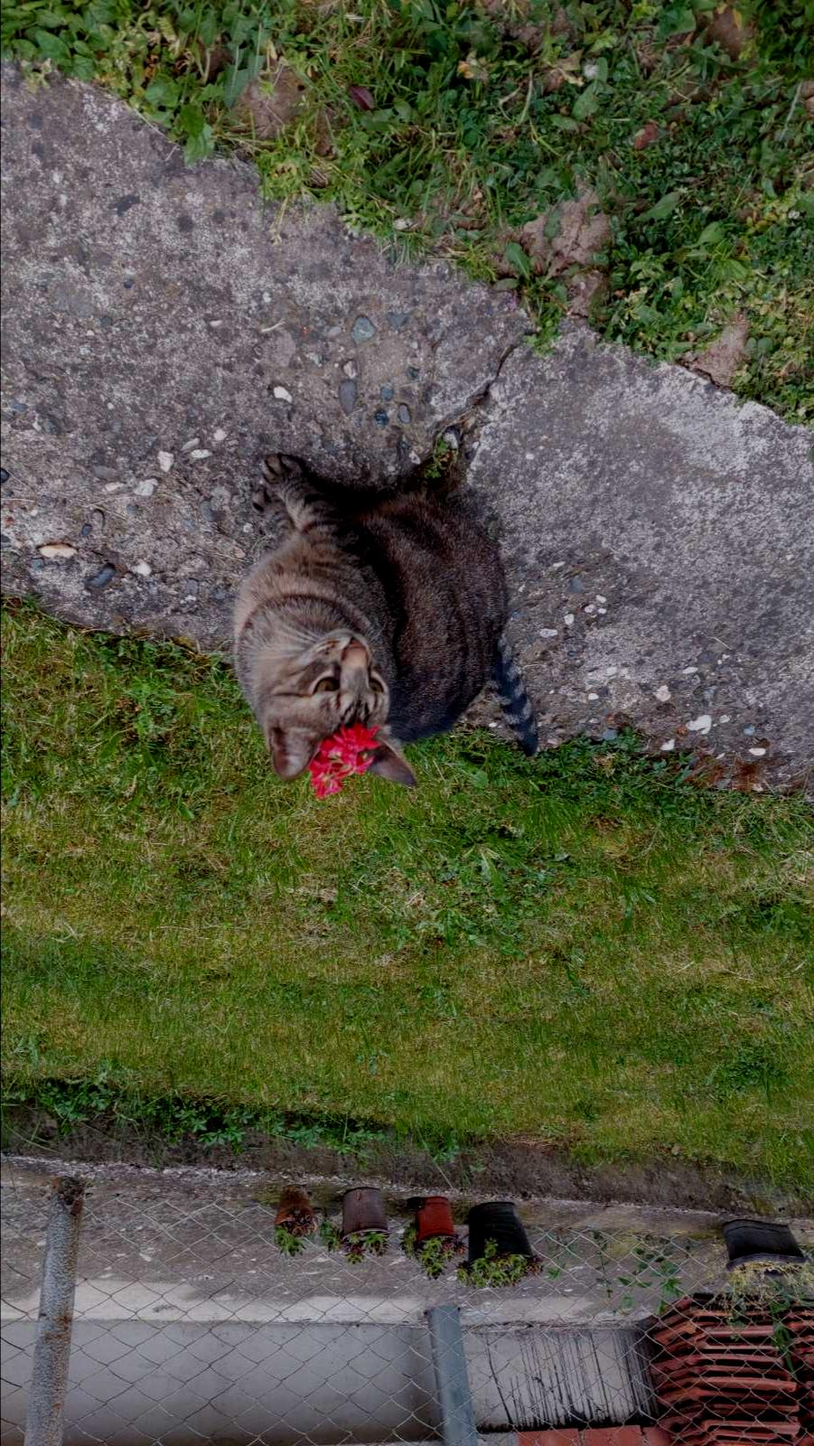macka: (231, 452, 537, 787)
